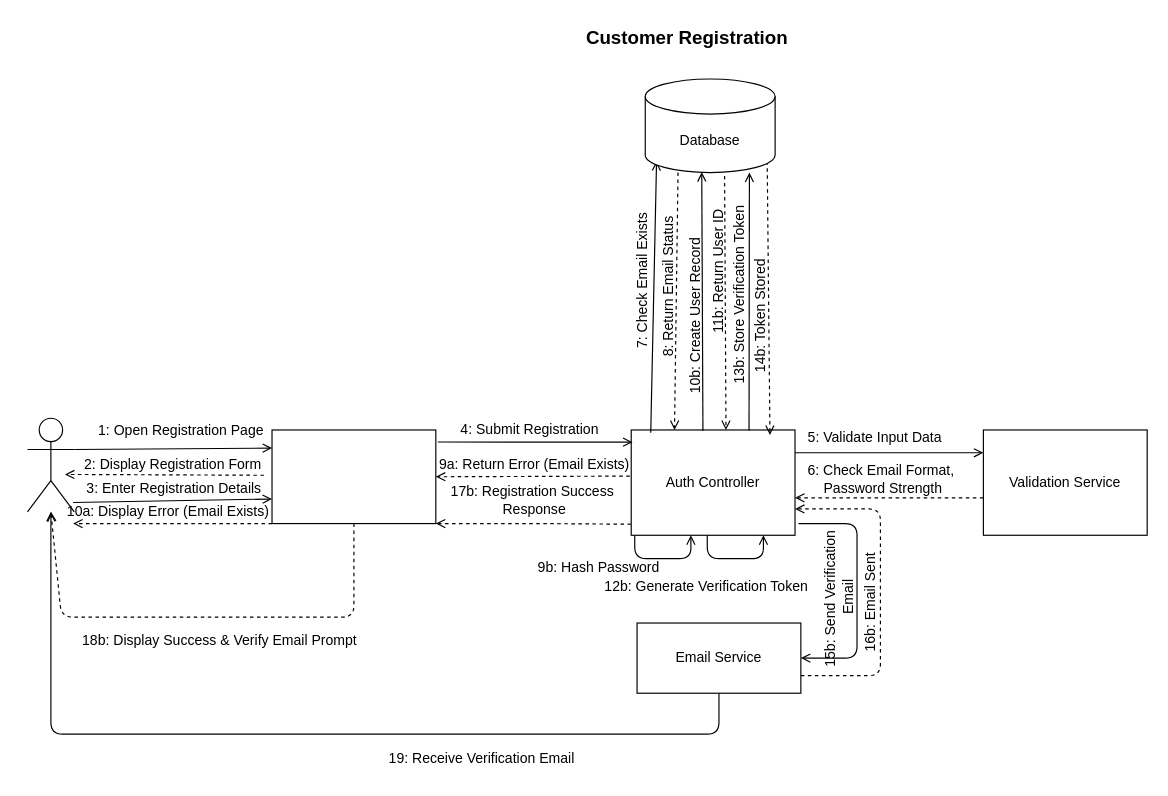
Some shapes in this 1168 by 796 pixel diagram are drawn without their labels. Here are the shapes that lost their labels. From the top down, the box of each, then its label:
(26, 417, 74, 512): Customer
(271, 429, 436, 524): Registration UI
